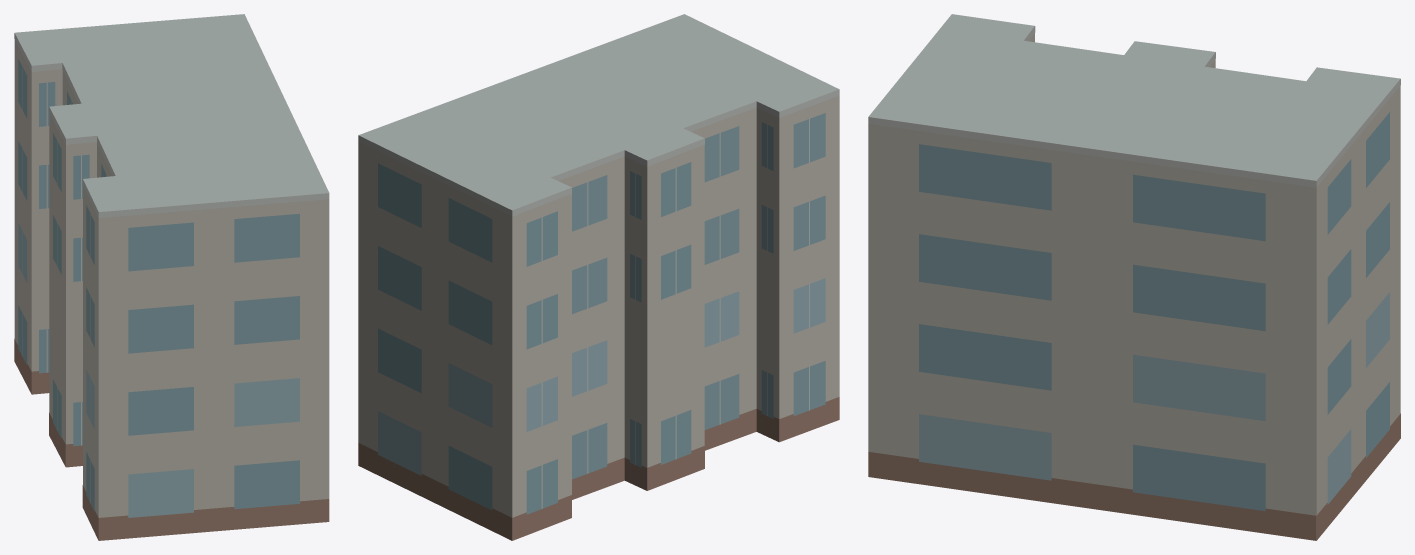
File: survey-upis-32788625.glb
3 views of the same model, side by side, from view 1: azimuth 30°, elevation 25°; view 2: azimuth 150°, elevation 25°; view 3: azimuth 270°, elevation 25° (orthographic). The views are drawn at different scales.
Parts seen in each view (by area): view 1: survey-upis-32788625.tmp; view 2: survey-upis-32788625.tmp; view 3: survey-upis-32788625.tmp.
Boxes of the visible parts, left/top/right/bottom form: survey-upis-32788625.tmp: left=14, top=14, right=329, bottom=540; survey-upis-32788625.tmp: left=358, top=14, right=839, bottom=540; survey-upis-32788625.tmp: left=868, top=14, right=1400, bottom=540.
Size of the model in its own units: 13.04 by 13.1 by 17.57.
